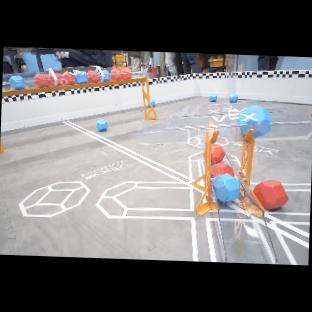Goal: (6, 66, 157, 120), (0, 140, 4, 153)
Loader: (224, 54, 237, 98)
Low_goal: (218, 160, 277, 264)
Med_goal: (135, 101, 312, 217)
V5_BLUE: (96, 119, 108, 131), (229, 94, 238, 103), (209, 94, 217, 102), (150, 99, 155, 107)
V5_RED: (253, 180, 289, 210)
blueingoal: (211, 174, 240, 202), (237, 106, 272, 125), (253, 127, 271, 137), (240, 128, 249, 134)
redingoal: (211, 144, 234, 178), (211, 163, 234, 178), (109, 68, 132, 81), (55, 72, 76, 86), (33, 74, 54, 87), (85, 71, 99, 83), (104, 73, 109, 81), (203, 151, 207, 158)
